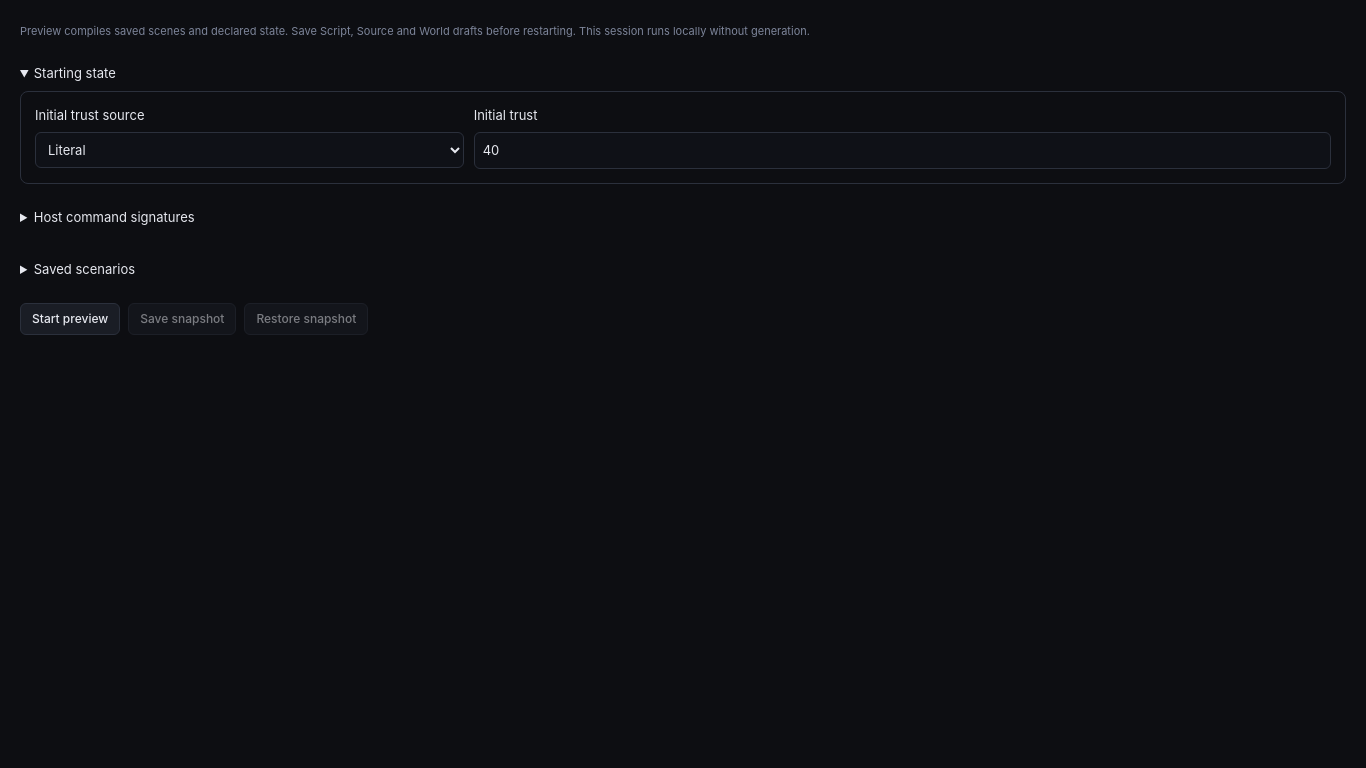
Test case: deterministic narrative preview › sets starting state, follows choices, manually acknowledges commands and restores a snapshot
The width and height of the screenshot is (1366, 768).
Replace the text in the number field labelled "Initial trust" with "71": x=902, y=151 [474,132,1331,169]
Click the button "Start preview": x=70, y=319 [20,303,120,335]
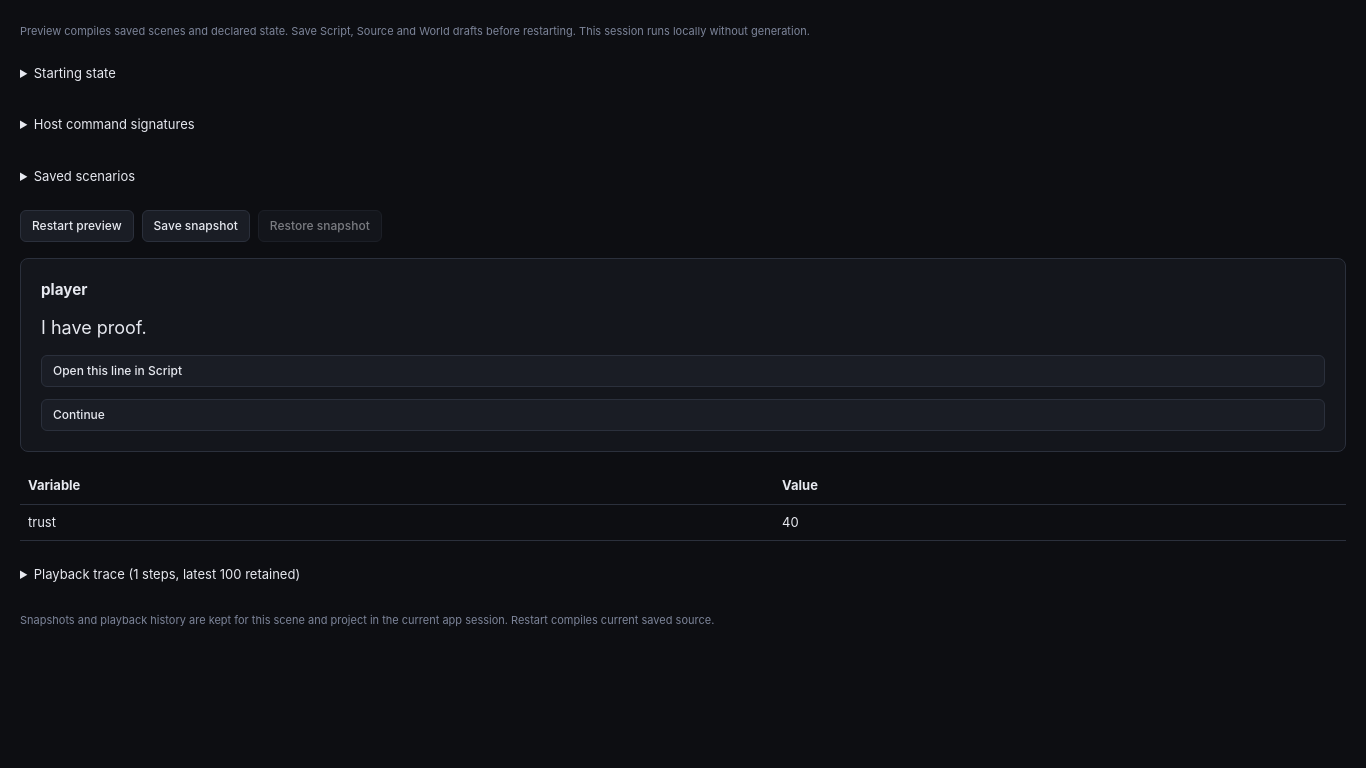
Result: the text "I have proof." is shown at [41,317,147,338]
Click the button "Save snapshot": x=196, y=226 [142,210,250,242]
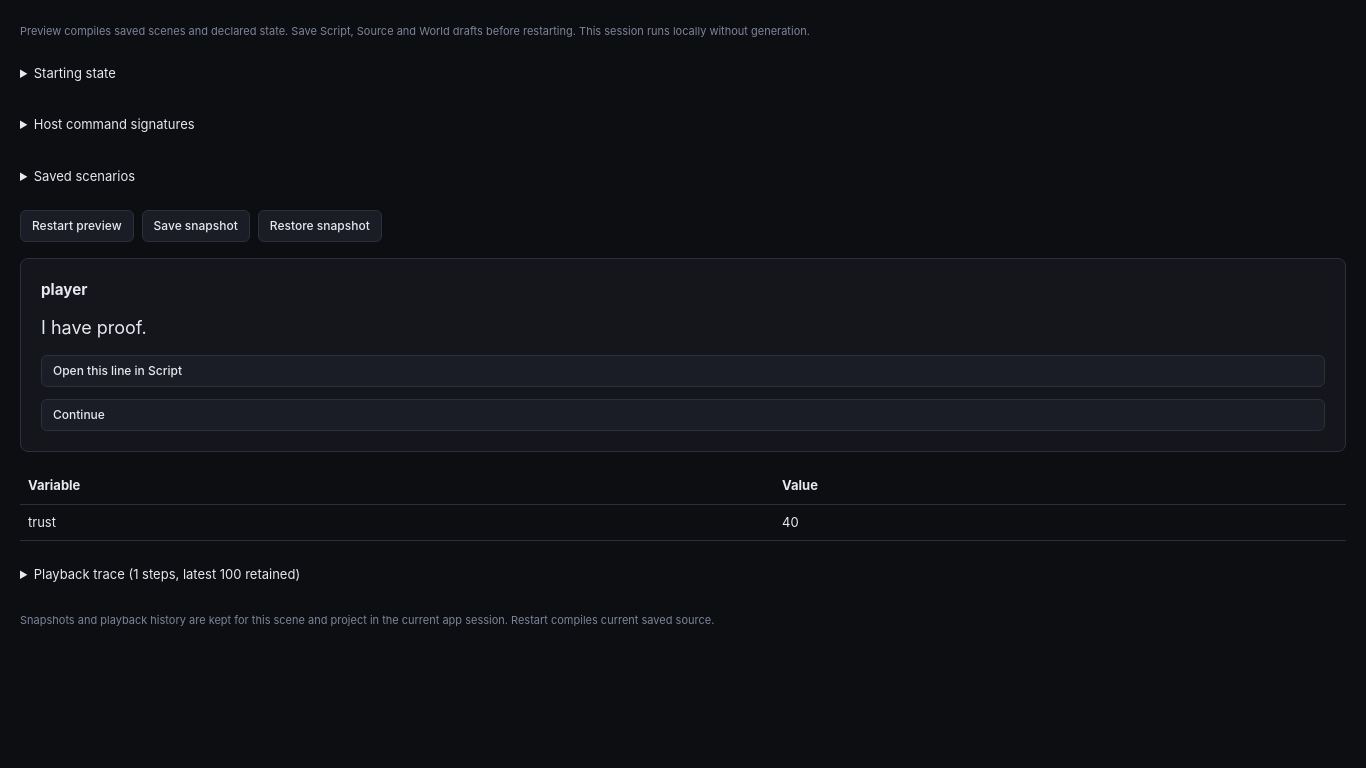
Click the button "Continue": x=79, y=415 [41,399,1325,431]
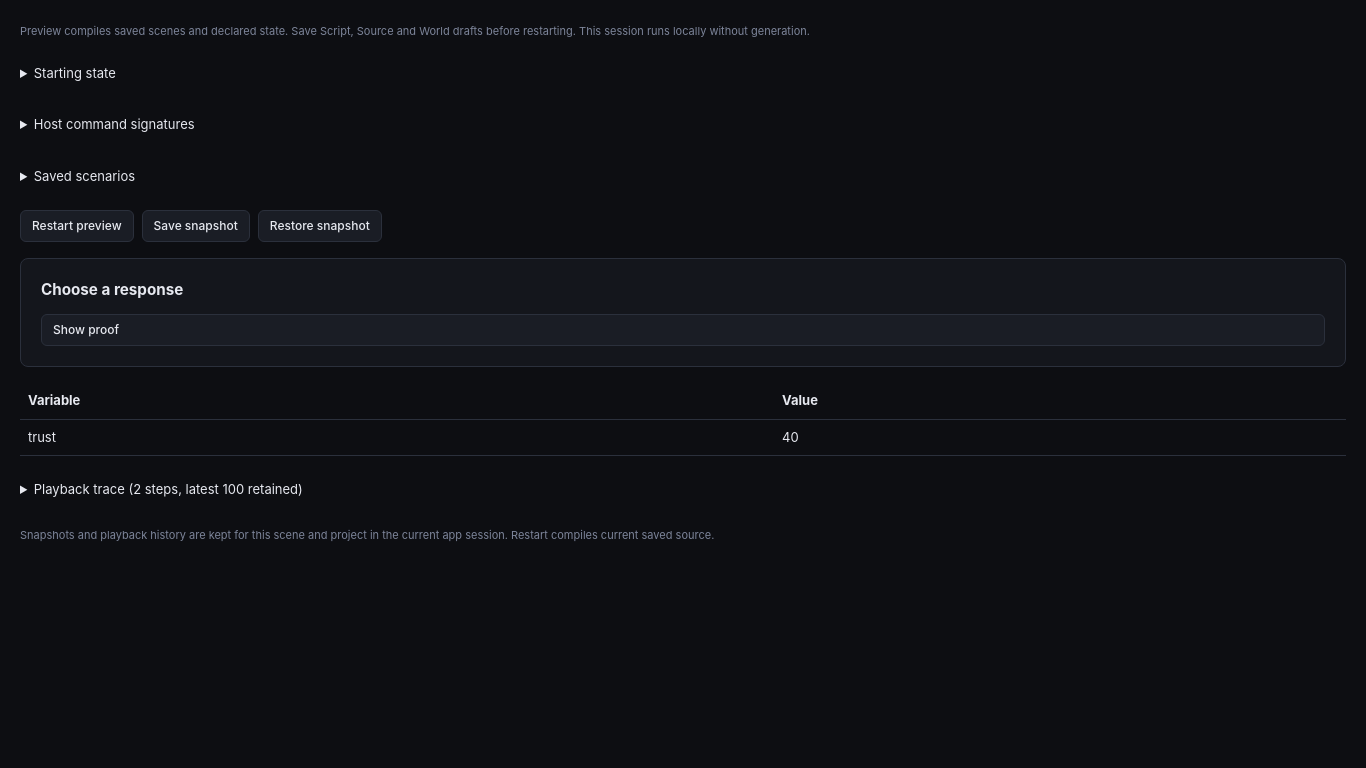
Click the button "Show proof": x=86, y=330 [41,314,1325,346]
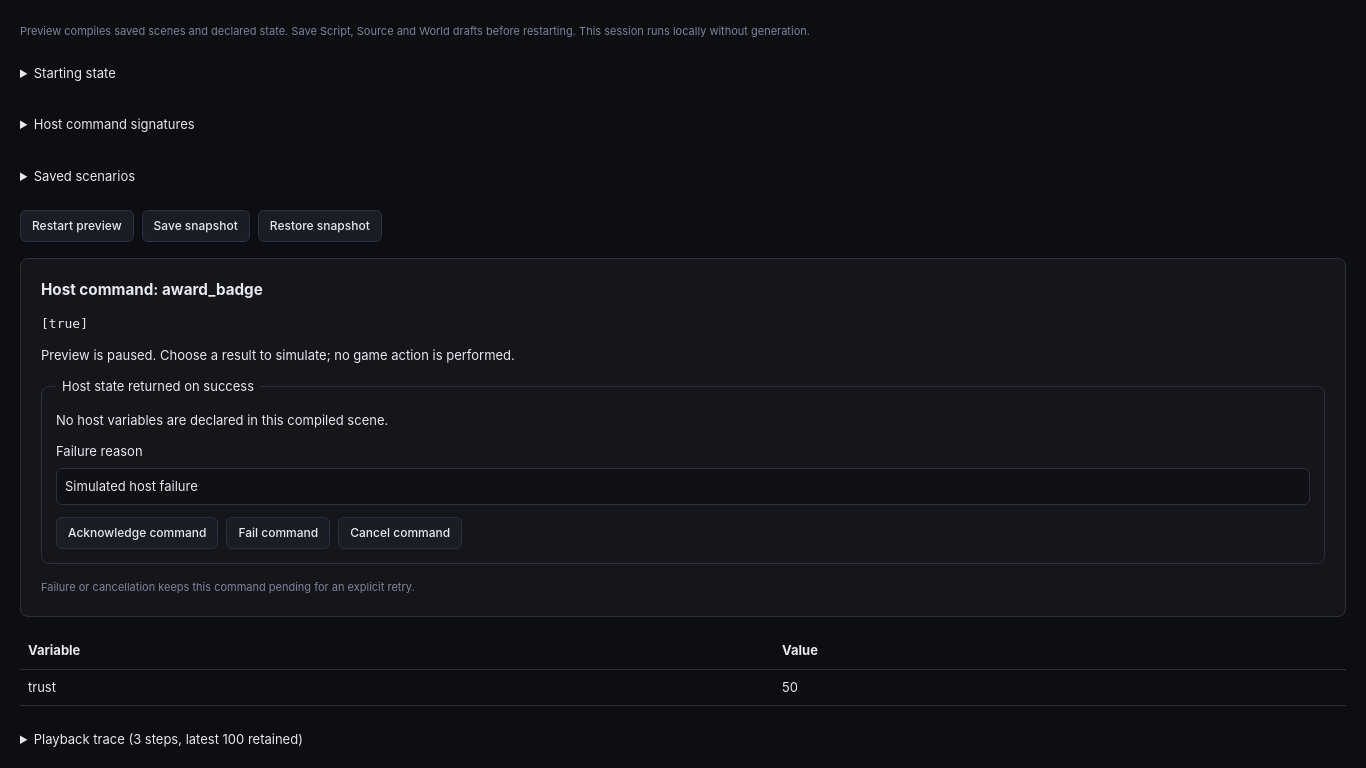
Result: the heading "Host command: award_badge" is shown at [41,280,263,299]
Result: the text "50" is shown at [774,669,1346,706]
Click the button "Acknowledge command": x=137, y=533 [56,517,218,549]
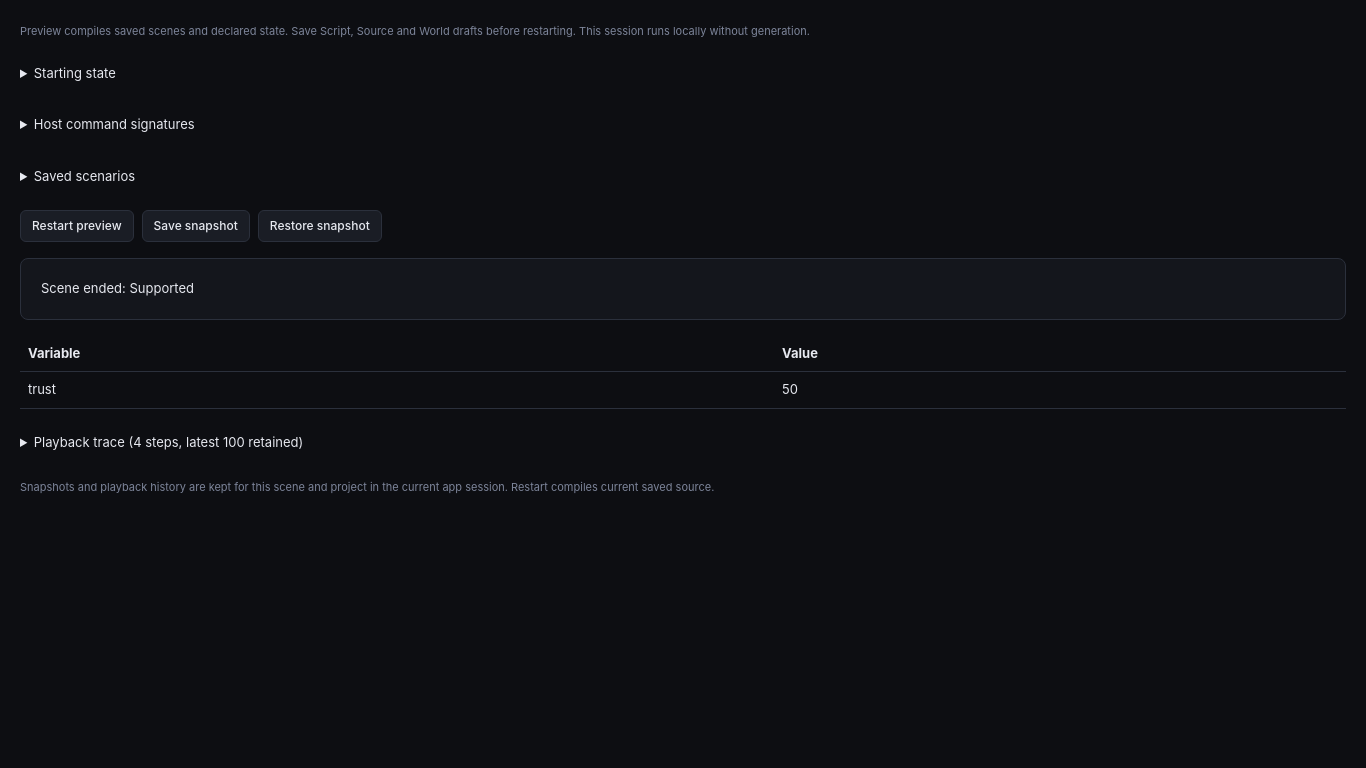
Result: the message reads "Scene ended: Supported" at [41,280,194,296]
Click the button "Restore snapshot": x=320, y=226 [258,210,382,242]
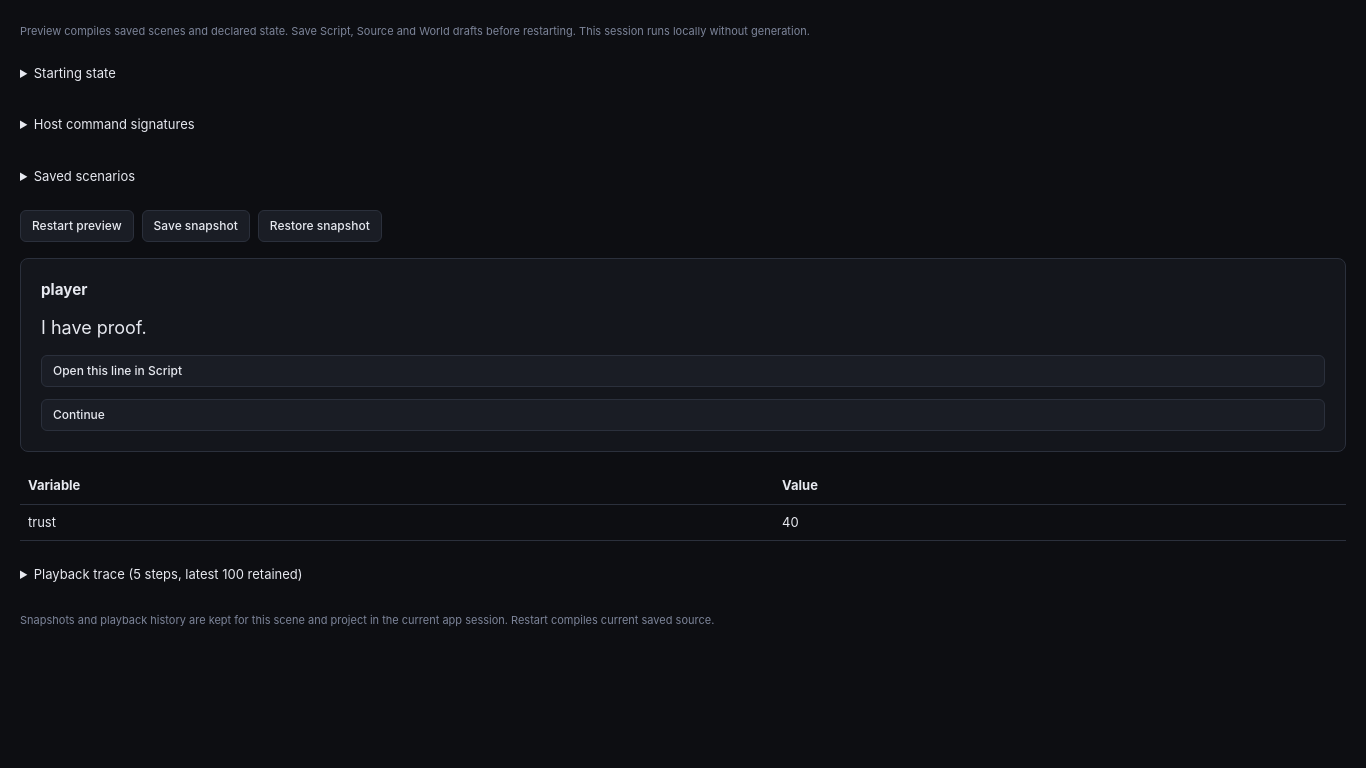
Result: the text "I have proof." is shown at [41,317,147,338]
